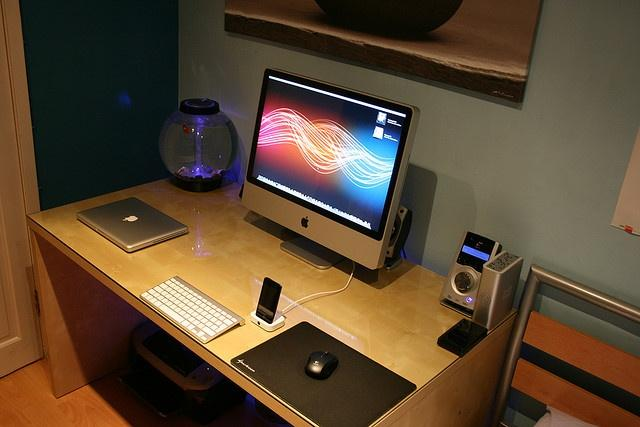AIO PC-Monitor-TV: (238, 67, 421, 270)
Meja: (25, 176, 516, 426)
